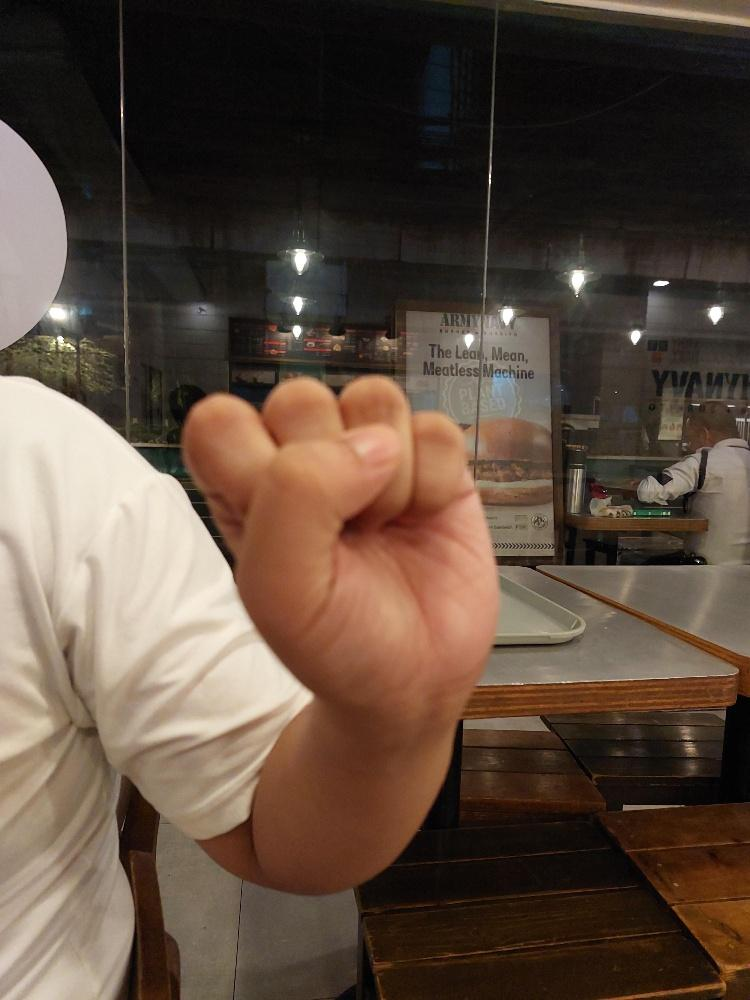s: (176, 371, 502, 715)
